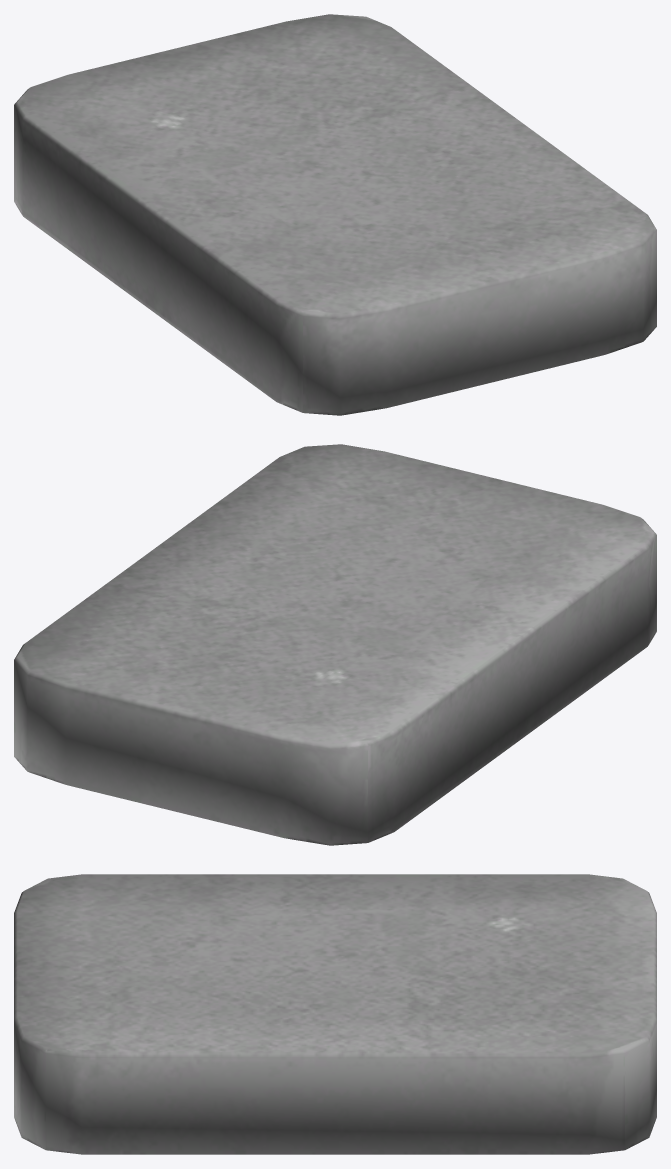
File: akers_solitaire_transparent_lid.dae
3 views of the same model, one above another, from view 1: azimuth 30°, elevation 25°; view 2: azimuth 150°, elevation 25°; view 3: azimuth 270°, elevation 25° (orthographic).
Parts seen in each view (by area): view 1: Object002; view 2: Object002; view 3: Object002.
Boxes of the visible parts, x1,y1,x2,y2 form: Object002: (14, 14, 656, 415); Object002: (14, 444, 656, 845); Object002: (14, 874, 656, 1154).
Size of the model in its own units: 0.1678 by 0.0431 by 0.2512.
